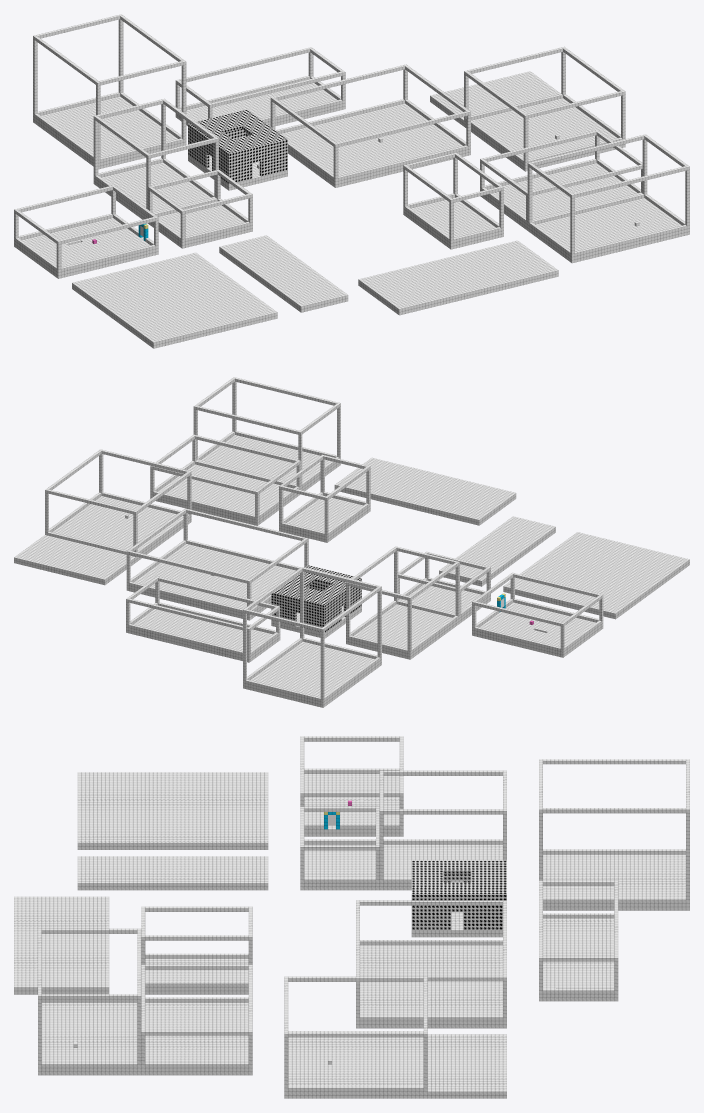
Rendered from TeAro-v2.glb.
3 views of the same model, one above another, from view 1: azimuth 30°, elevation 25°; view 2: azimuth 150°, elevation 25°; view 3: azimuth 270°, elevation 25° (orthographic). The views are drawn at different scales.
Parts seen in each view (by area): view 1: solid-voxels_7.024; view 2: solid-voxels_7.024; view 3: solid-voxels_7.024.
Boxes of the visible parts, x1,y1,x2,y2 form: solid-voxels_7.024: (14, 14, 689, 348); solid-voxels_7.024: (14, 377, 689, 707); solid-voxels_7.024: (14, 736, 689, 1098).
Bounding box in the file's own units: 95 × 14 × 85.
Materials: 1 (1 with a texture image).
